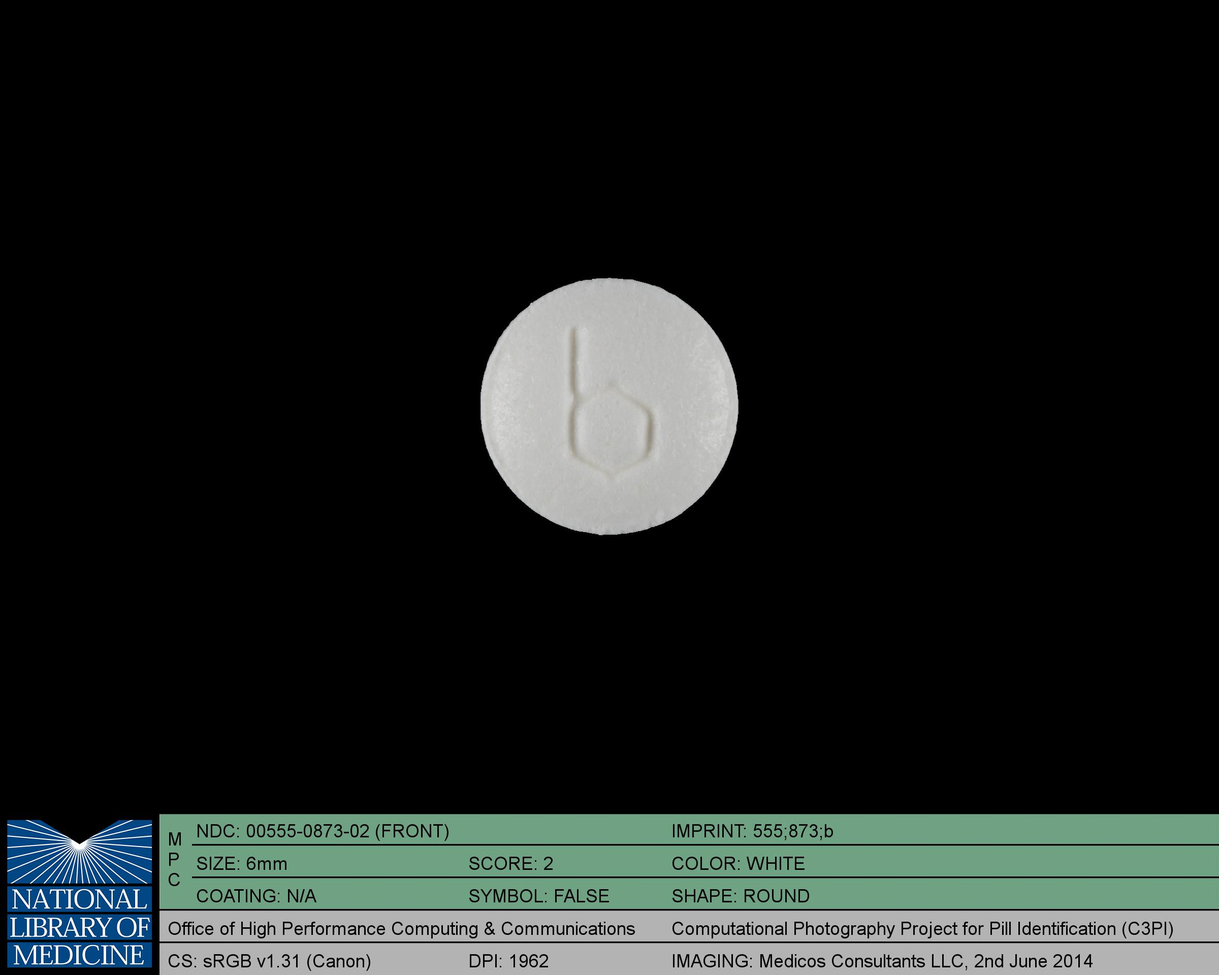Pill: (469, 266, 750, 545)
